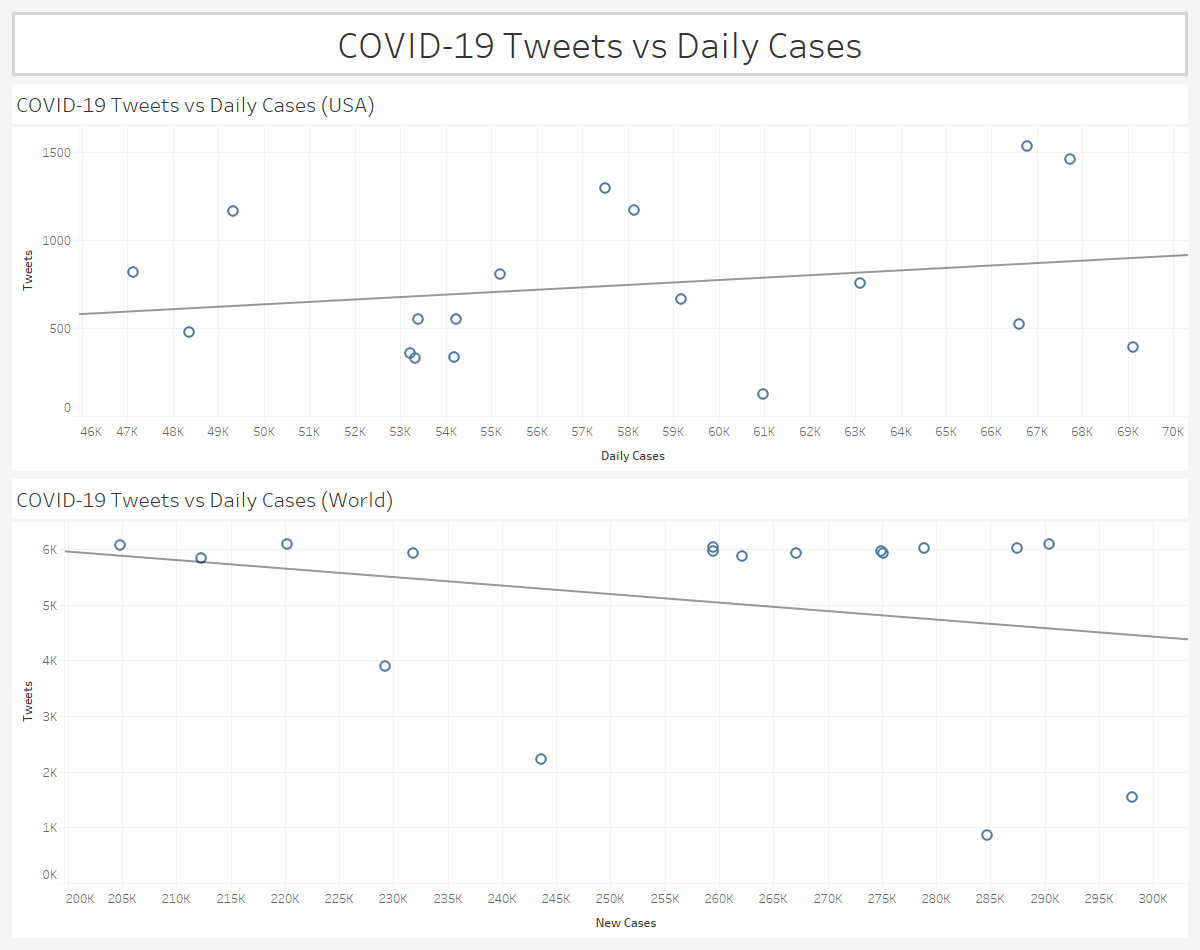

Layout of this report page (visuals, bound fields, positions):
{"tool":"tableau","page":{"name":"Tweets/Cases per Day (2)","canvas":[1200,950],"ordinal":1},"visuals":[{"type":"title","box":[8,8,1184,72]},{"type":"worksheet","title":"Tweets vs Cases (USA) ","mark":"Automatic","rows":["date 1"],"cols":["cases"],"box":[8,80,1184,395]},{"type":"worksheet","title":"Tweets vs Cases (World)","mark":"Automatic","rows":["user_location"],"cols":["new_cases"],"box":[8,475,1184,467]}]}

Visuals, with their boxes in screenshot pixels (x1, y1, x2, y2), scaled from the page's 1200x950 canvas onto the 1200x950 screenshot:
title: 8:8:1192:80
"Tweets vs Cases (USA) " worksheet: 8:80:1192:475
"Tweets vs Cases (World)" worksheet: 8:475:1192:942
